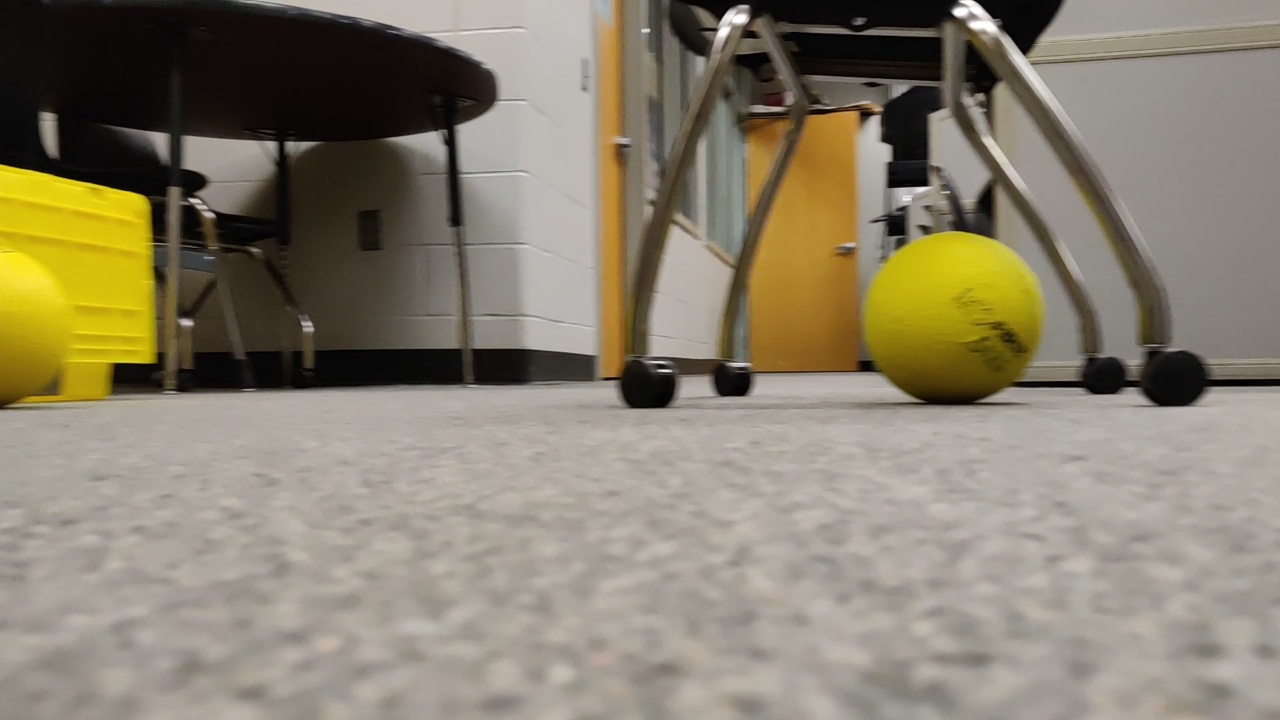Ball: (854, 226, 1046, 407), (1, 250, 78, 394)
